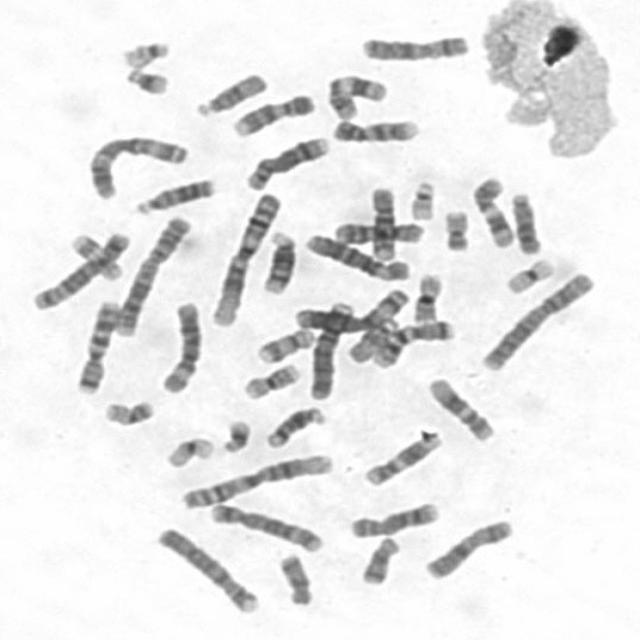A1: (206, 186, 284, 328), (173, 447, 337, 511)
A2: (474, 266, 598, 373), (110, 210, 193, 338)
A3: (81, 129, 191, 201), (288, 282, 411, 335)
B4: (149, 520, 263, 616), (302, 295, 356, 402)
B5: (25, 226, 131, 311), (203, 498, 325, 554)
C10: (363, 179, 400, 262), (328, 216, 426, 247)
C11: (467, 171, 517, 249), (320, 68, 389, 121)
C12: (420, 371, 497, 443), (357, 426, 444, 488)
C6: (300, 228, 413, 282), (153, 294, 204, 396)
C7: (69, 294, 123, 396), (366, 314, 458, 369)
C8: (239, 130, 332, 192), (342, 496, 442, 540)
C9: (226, 88, 316, 138), (326, 112, 421, 144)
D13: (129, 172, 217, 216), (505, 187, 545, 256)
D14: (259, 401, 328, 449), (255, 224, 298, 296)
D15: (188, 67, 268, 117), (341, 313, 400, 364)
E16: (237, 358, 302, 401), (406, 268, 445, 324)
E17: (65, 228, 124, 282), (250, 322, 316, 365)
E18: (353, 531, 402, 586), (271, 547, 315, 607)
F19: (499, 251, 557, 295), (159, 431, 216, 470)
F20: (96, 393, 158, 428), (437, 204, 472, 253)
G21: (118, 62, 172, 97), (215, 414, 253, 454)
G22: (115, 34, 172, 69), (402, 174, 438, 222)
X: (417, 513, 516, 581), (354, 28, 472, 63)
